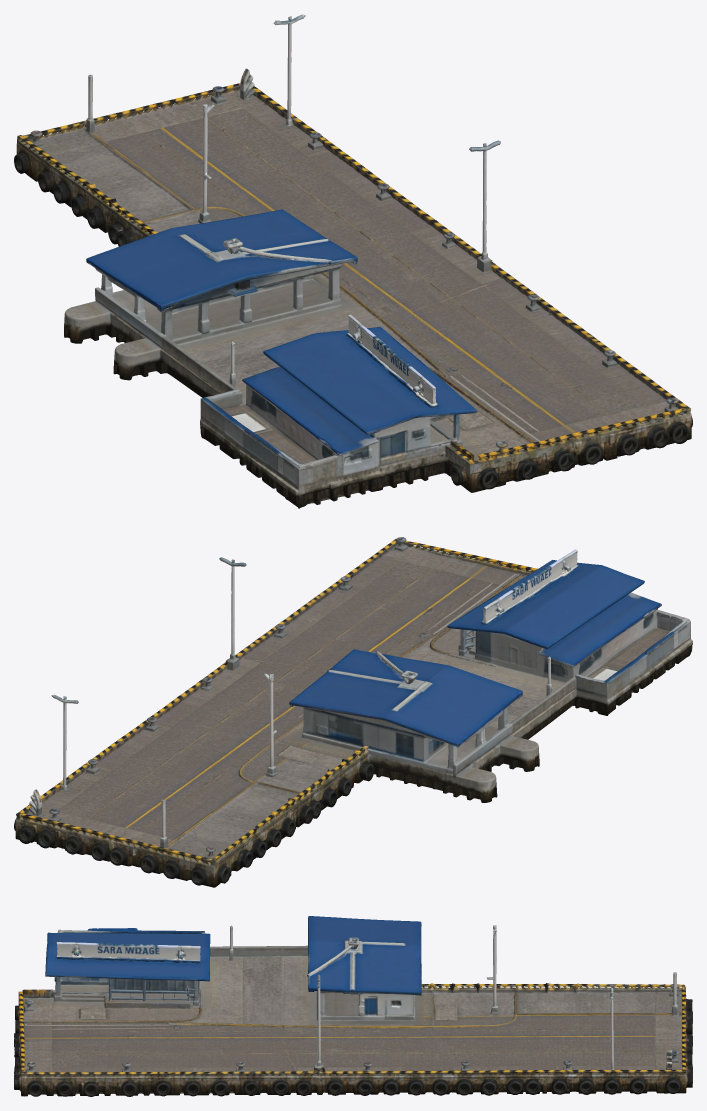
File: seaside_wharf.d85a552bdcca.glb
3 renders of one model, top to bottom at view 1: azimuth 30°, elevation 25°; view 2: azimuth 150°, elevation 25°; view 3: azimuth 270°, elevation 25°, orthographic. The views are drawn at different scales.
Visible parts, largest first — view 1: tripo_node_885c66f7-af41-42e6-8f72-e58278026fbb; view 2: tripo_node_885c66f7-af41-42e6-8f72-e58278026fbb; view 3: tripo_node_885c66f7-af41-42e6-8f72-e58278026fbb.
Part boxes in pixels (bbox=[...]): tripo_node_885c66f7-af41-42e6-8f72-e58278026fbb: bbox=[14, 14, 692, 508]; tripo_node_885c66f7-af41-42e6-8f72-e58278026fbb: bbox=[14, 537, 692, 887]; tripo_node_885c66f7-af41-42e6-8f72-e58278026fbb: bbox=[14, 916, 692, 1096].
Bounding box in the file's own units: 0.4735 × 0.1817 × 0.9792.
1 material, 1 textured.
